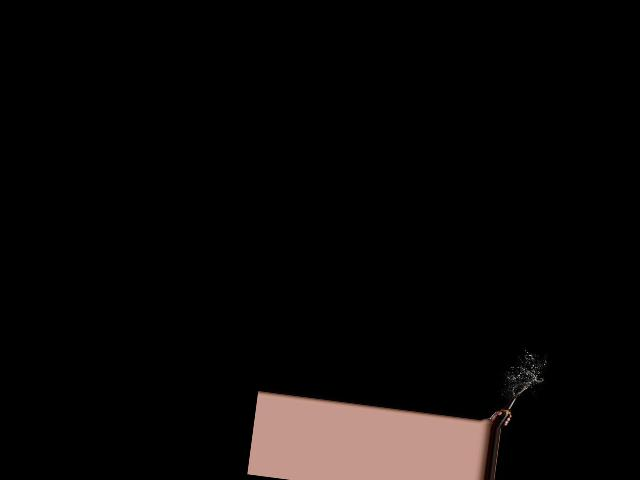beer: (489, 392, 517, 429)
